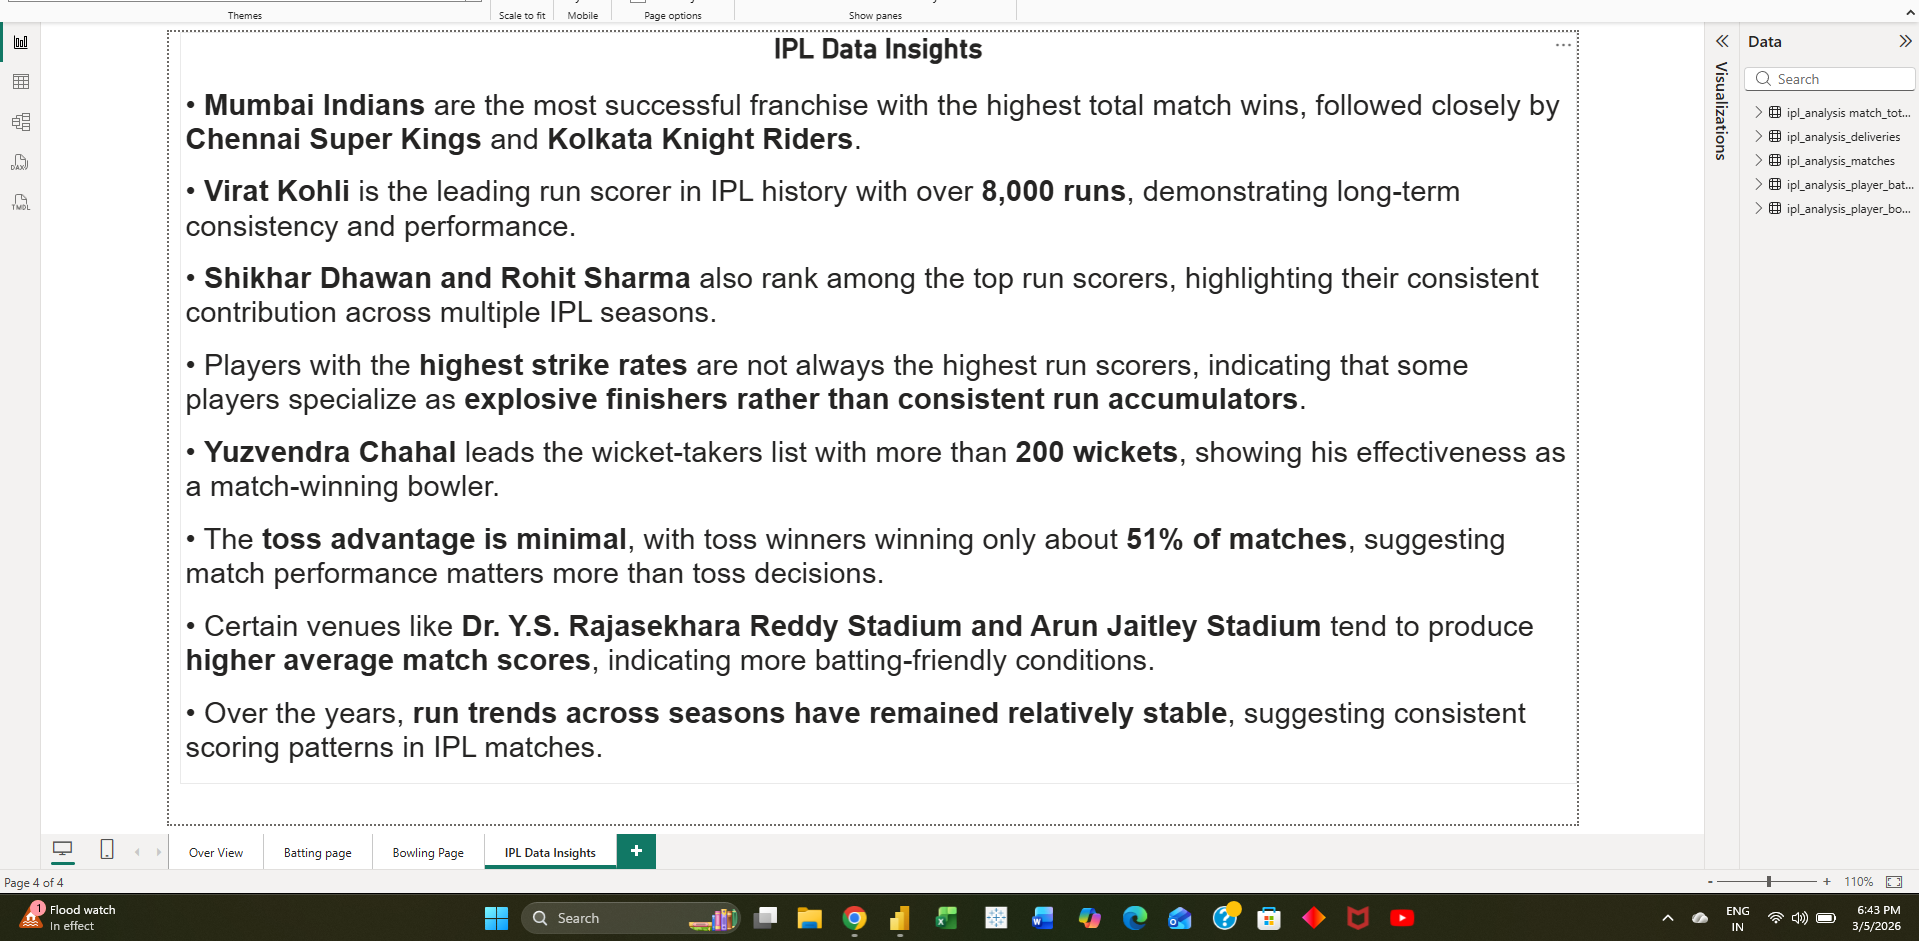

This screenshot's page, from the dashboard's own definition file:
{"tool":"powerbi","page":{"name":"IPL Data Insights","canvas":[1280,720],"ordinal":3},"visuals":[{"type":"textbox","title":"IPL Data Insights","box":[9.9,0,1269.9,683.3],"z":0}]}

Visuals, with their boxes on the page's 1280x720 design canvas (x1, y1, x2, y2). These are canvas units, not pixel positions in the 1919x941 screenshot, which may show the page scaled, cropped or inside an application window:
"IPL Data Insights" textbox: crop(10, 0, 1280, 683)
